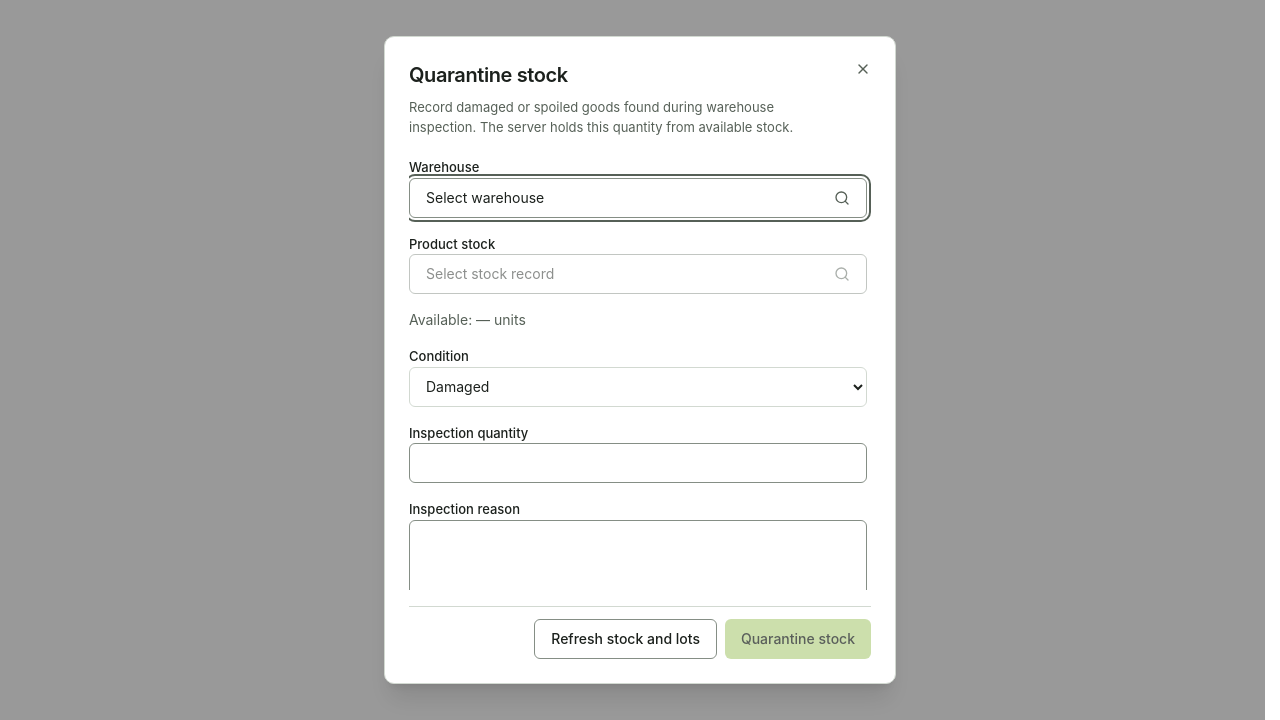
recovers warehouse lookup errors without freezing the form
Click the button with aria-label "Quarantine warehouse". click: (485, 197)
box: [409,178,867,218]
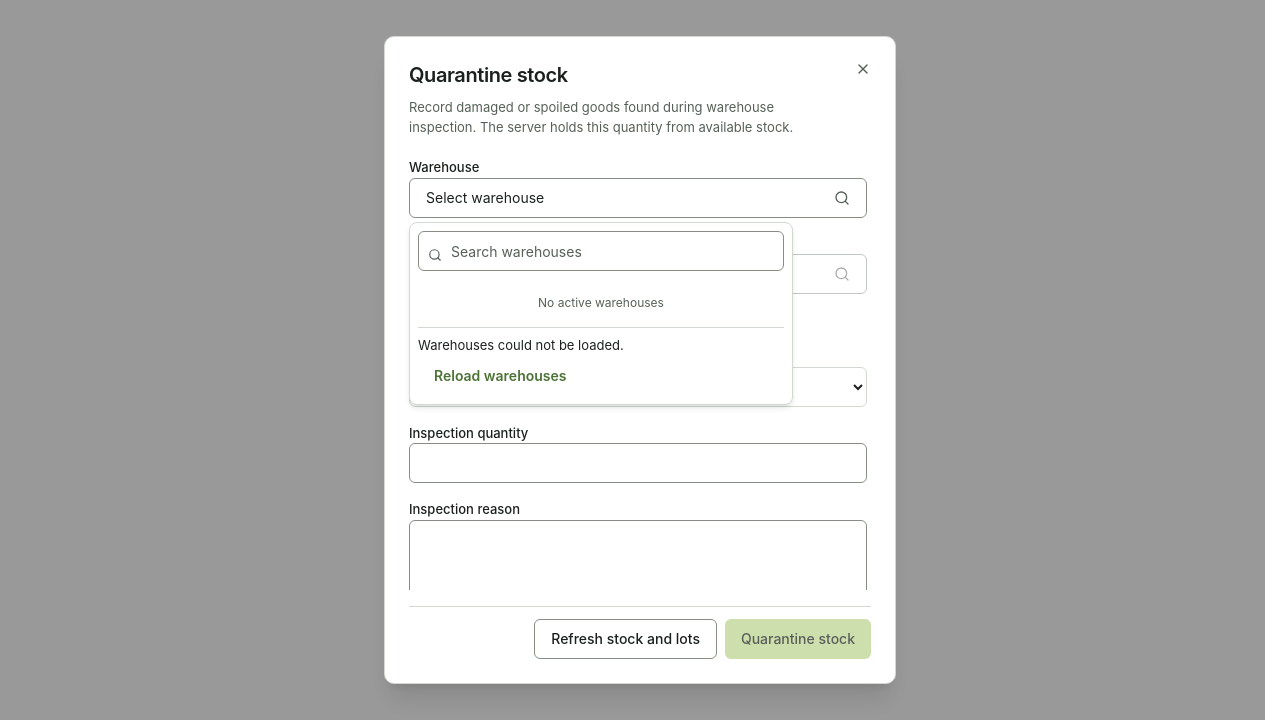
Result: the button "Reload warehouses" is shown
Click the button "Reload warehouses". click: (500, 376)
box: [418,356,582,396]
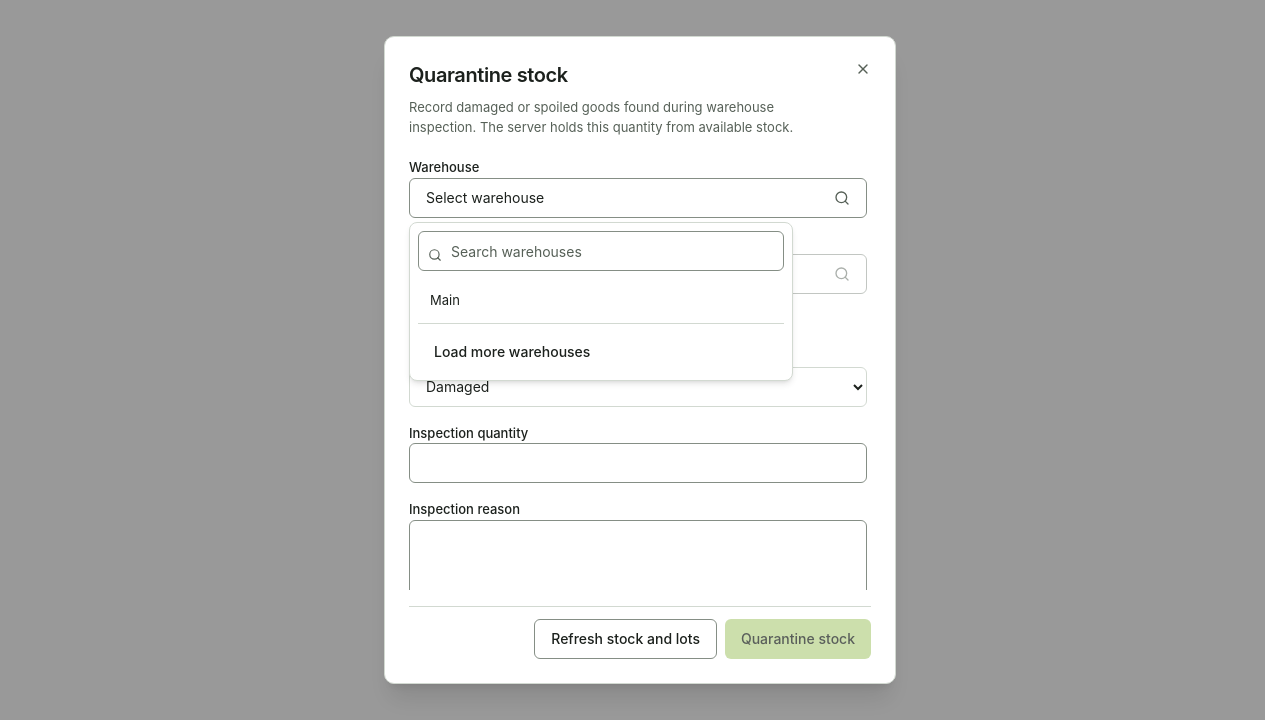
Result: the menu item "Main" is shown at [430,292,460,308]
